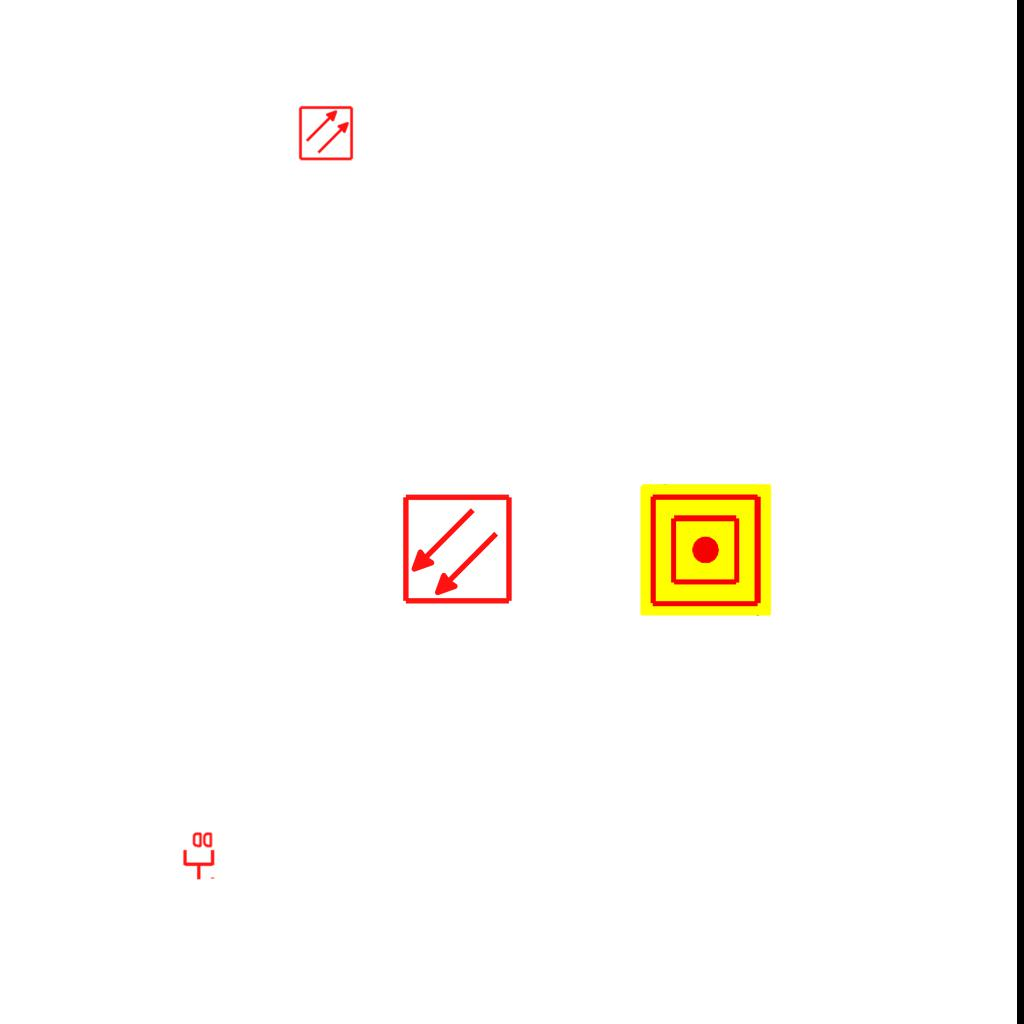Datenanschluss_zweifach: (181, 830, 215, 881)
NAM-Nichtautomatischer_Melder: (640, 484, 772, 616)
RMO_Rauchmelder_optischer: (401, 493, 514, 606), (298, 105, 354, 161)
